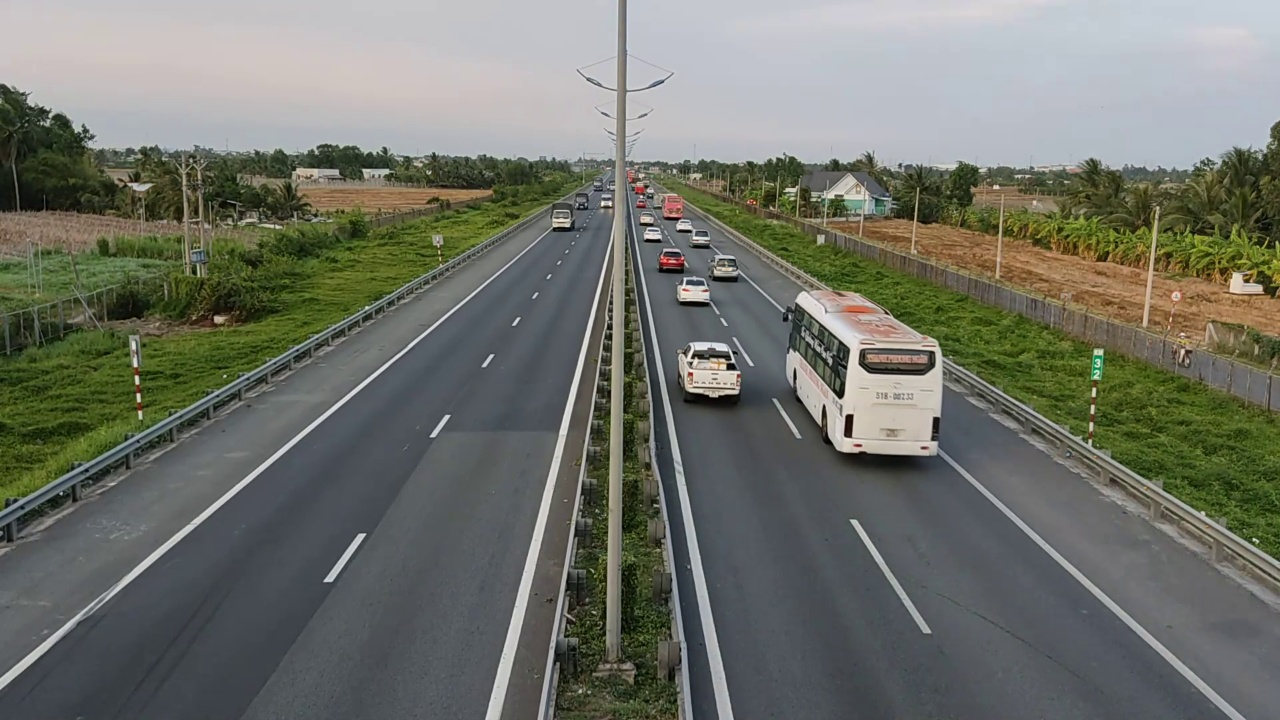bus: (782, 286, 945, 461)
car: (675, 340, 742, 401), (675, 275, 710, 304), (708, 253, 738, 280), (657, 247, 685, 270)
